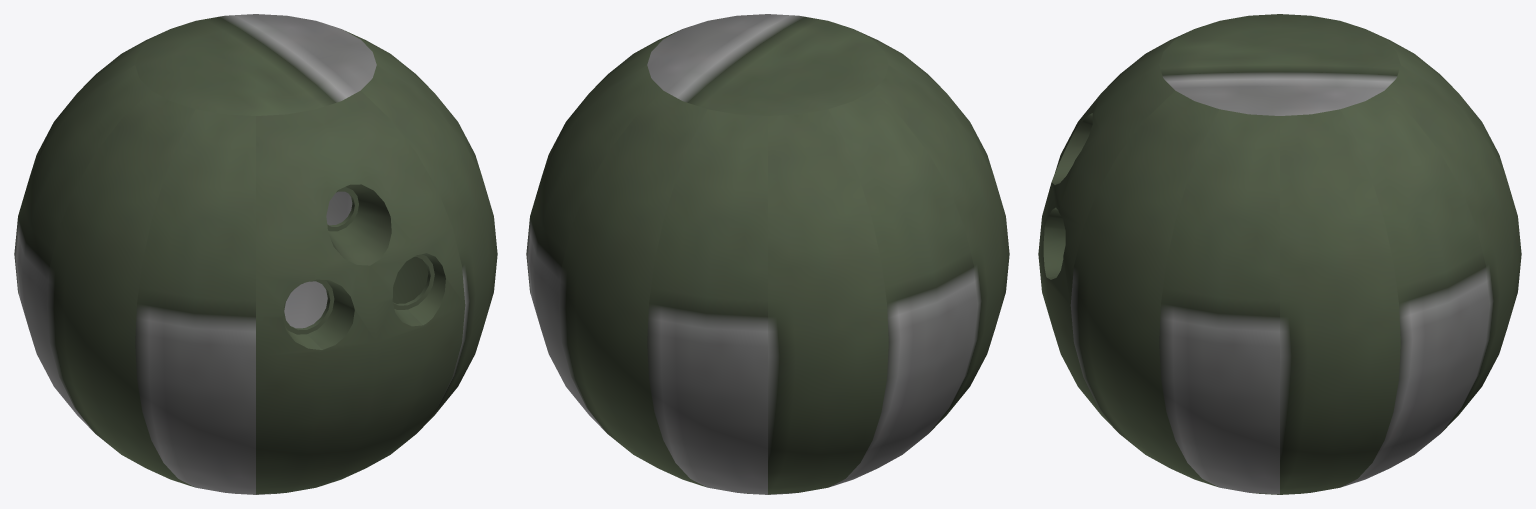
File: zenit_flat_top.obj
The picture shows the model from 3 angles, left to right: view 1: azimuth 30°, elevation 25°; view 2: azimuth 150°, elevation 25°; view 3: azimuth 270°, elevation 25°; orthographic projection.
Visible parts, largest first — view 1: 1; view 2: 1; view 3: 1.
Part boxes in pixels (left/top/right/bottom): 1: left=14, top=14, right=497, bottom=494; 1: left=526, top=14, right=1009, bottom=494; 1: left=1038, top=14, right=1521, bottom=494.
Size of the model in its own units: 1.25 by 1.18 by 1.25.
